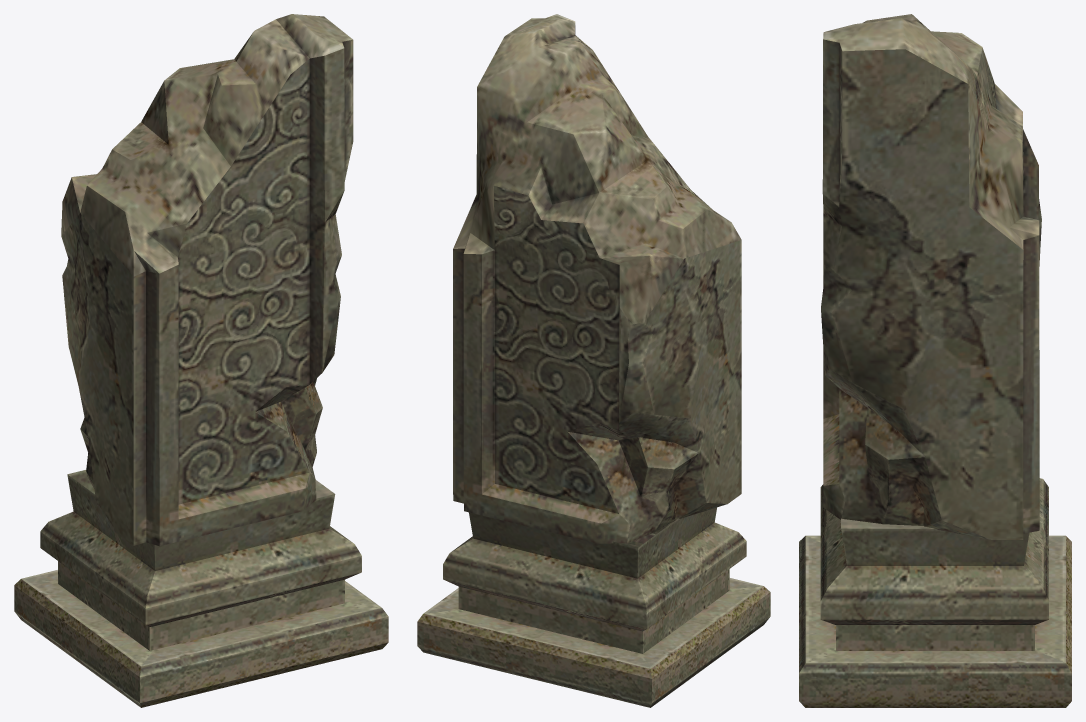
The model's file is Scene_Build_TaZiShaMo_PoSunShiZhu_3.FBX.
The picture shows the model from 3 angles, left to right: view 1: azimuth 30°, elevation 25°; view 2: azimuth 150°, elevation 25°; view 3: azimuth 270°, elevation 25°; orthographic projection. The views are drawn at different scales.
Parts seen in each view (by area): view 1: Scene_Build_TaZiShaMo_PoSunShiZhu_3; view 2: Scene_Build_TaZiShaMo_PoSunShiZhu_3; view 3: Scene_Build_TaZiShaMo_PoSunShiZhu_3.
Boxes of the visible parts, x1,y1,x2,y2 form: Scene_Build_TaZiShaMo_PoSunShiZhu_3: (14, 14, 388, 707); Scene_Build_TaZiShaMo_PoSunShiZhu_3: (417, 14, 770, 707); Scene_Build_TaZiShaMo_PoSunShiZhu_3: (799, 14, 1071, 707).
Size of the model in its own units: 251 by 591 by 220.
